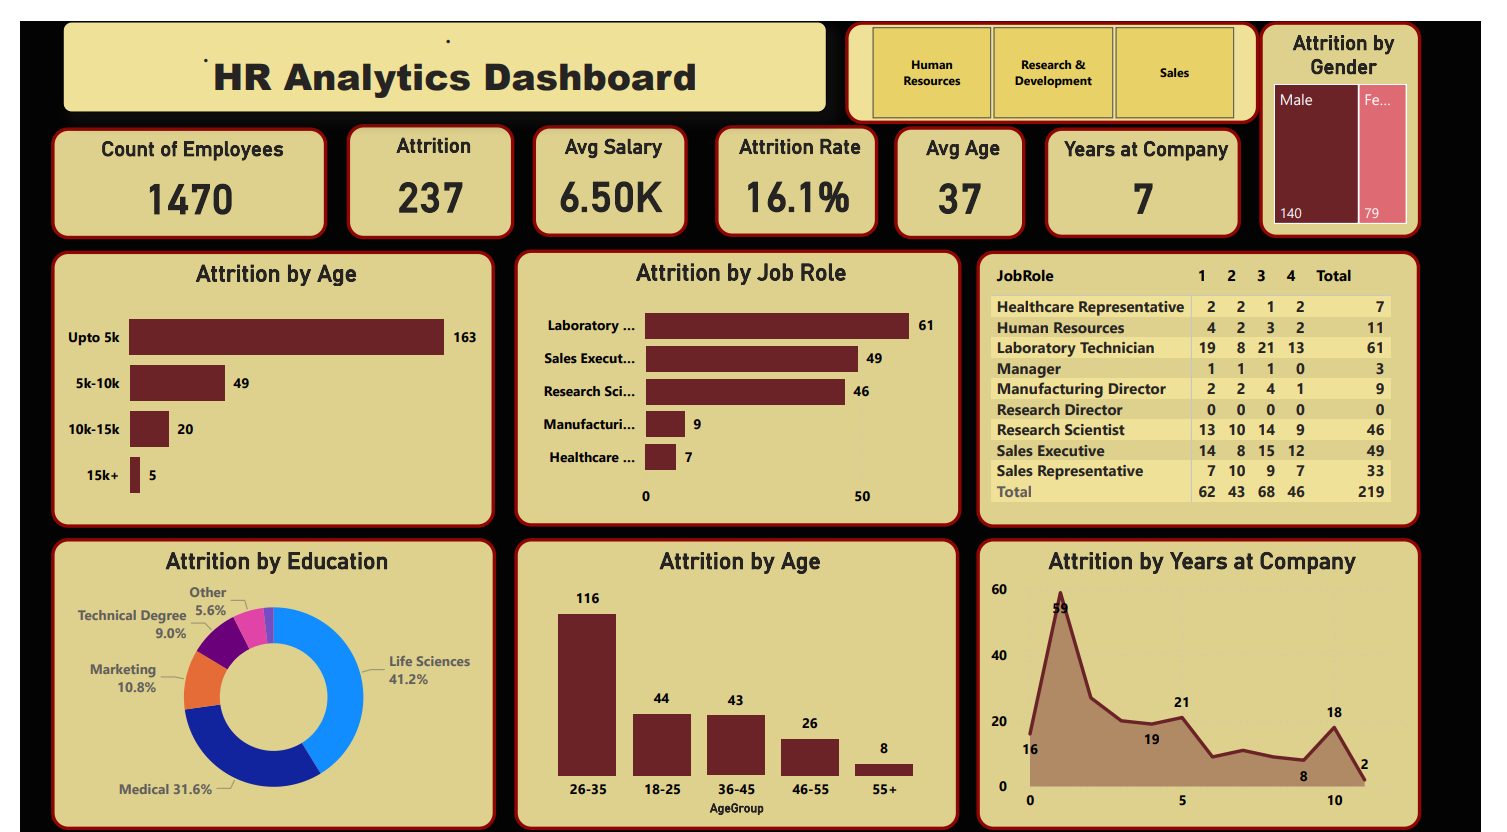

The dashboard page shown, as its layout file describes it:
{"tool":"powerbi","page":{"name":"Page 1","canvas":[1280,720],"ordinal":0},"visuals":[{"type":"card","title":"Count of Employees","fields":{"Values":["CountNonNull(HR_Analytics.EmpID)"]},"box":[27,93.3,241.7,98.2],"z":0},{"type":"card","title":"Attrition","fields":{"Values":["Sum(HR_Analytics.AttritionCount)"]},"box":[285.9,89.6,147.2,101.8],"z":1000},{"type":"card","title":"Avg Salary","fields":{"Values":["Avg(HR_Analytics.MonthlyIncome)"]},"box":[449.1,90.8,136.2,98.2],"z":2000},{"type":"card","title":"Avg Age","fields":{"Values":["Avg(HR_Analytics.Age)"]},"box":[765.6,92,115.3,99.4],"z":3000},{"type":"card","title":"Attrition Rate","fields":{"Values":["HR_Analytics.AttritionRate"]},"box":[608.6,90.8,143.6,98.2],"z":4000},{"type":"card","title":"Years at Company","fields":{"Values":["Avg(HR_Analytics.YearsAtCompany)"]},"box":[898.2,93.3,171.8,96.9],"z":5000},{"type":"donutChart","title":"Attrition by Education","fields":{"Category":["HR_Analytics.EducationField"],"Y":["CountNonNull(HR_Analytics.EmpID)"]},"box":[27,452.8,390.2,256.4],"z":6000},{"type":"columnChart","title":"Attrition by Age","fields":{"Y":["Sum(HR_Analytics.AttritionCount)"],"Category":["HR_Analytics.AgeGroup"]},"box":[433.1,452.8,390.2,256.4],"z":7000},{"type":"barChart","title":"Attrition by Age","fields":{"Category":["HR_Analytics.SalarySlab"],"Y":["Sum(HR_Analytics.AttritionCount)"]},"box":[27,201.2,389,242.9],"z":8000},{"type":"areaChart","title":"Attrition by Years at Company","fields":{"Y":["Sum(HR_Analytics.AttritionCount)"],"Category":["HR_Analytics.YearsAtCompany"]},"box":[838,452.8,390.2,256.4],"z":9000},{"type":"clusteredBarChart","title":"Attrition by Job Role","fields":{"Category":["HR_Analytics.JobRole"],"Y":["Sum(HR_Analytics.AttritionCount)"]},"box":[433.1,200,391.4,242.9],"z":10000},{"type":"pivotTable","title":"Attrition by Job Role","fields":{"Rows":["HR_Analytics.JobRole"],"Columns":["HR_Analytics.JobSatisfaction"],"Values":["Sum(HR_Analytics.AttritionCount)"]},"box":[838,201.2,389,242.9],"z":11000},{"type":"treemap","title":"Attrition by Gender","fields":{"Group":["HR_Analytics.Gender"],"Values":["Sum(HR_Analytics.AttritionCount)"]},"box":[1085.9,0,142.3,190.2],"z":12000},{"type":"slicer","title":"Attrition by Gender","fields":{"Values":["HR_Analytics.Department"]},"box":[722.7,0,363.2,89.6],"z":13000},{"type":"textbox","box":[36.8,0,669.9,79.8],"z":13001}]}

Visuals, with their boxes in screenshot pixels (x1, y1, x2, y2), scaled from the page's 1280x720 canvas onto the 1507x832 screenshot:
"Count of Employees" card: Rect(32, 108, 316, 221)
"Attrition" card: Rect(337, 104, 510, 221)
"Avg Salary" card: Rect(529, 105, 689, 218)
"Avg Age" card: Rect(901, 106, 1037, 221)
"Attrition Rate" card: Rect(717, 105, 886, 218)
"Years at Company" card: Rect(1057, 108, 1260, 220)
"Attrition by Education" donutChart: Rect(32, 523, 491, 820)
"Attrition by Age" columnChart: Rect(510, 523, 969, 820)
"Attrition by Age" barChart: Rect(32, 232, 490, 513)
"Attrition by Years at Company" areaChart: Rect(987, 523, 1446, 820)
"Attrition by Job Role" clusteredBarChart: Rect(510, 231, 971, 512)
"Attrition by Job Role" pivotTable: Rect(987, 232, 1445, 513)
"Attrition by Gender" treemap: Rect(1278, 0, 1446, 220)
"Attrition by Gender" slicer: Rect(851, 0, 1278, 104)
textbox: Rect(43, 0, 832, 92)
